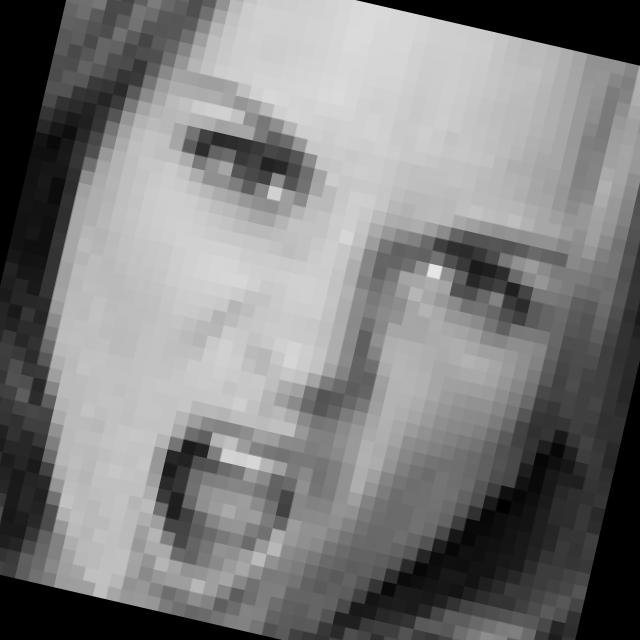angry: (63, 61, 600, 640)
